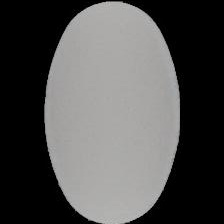60429-502: (0, 0, 224, 224)
